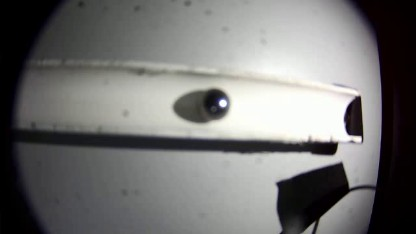gangzhu: (202, 87, 230, 117)
